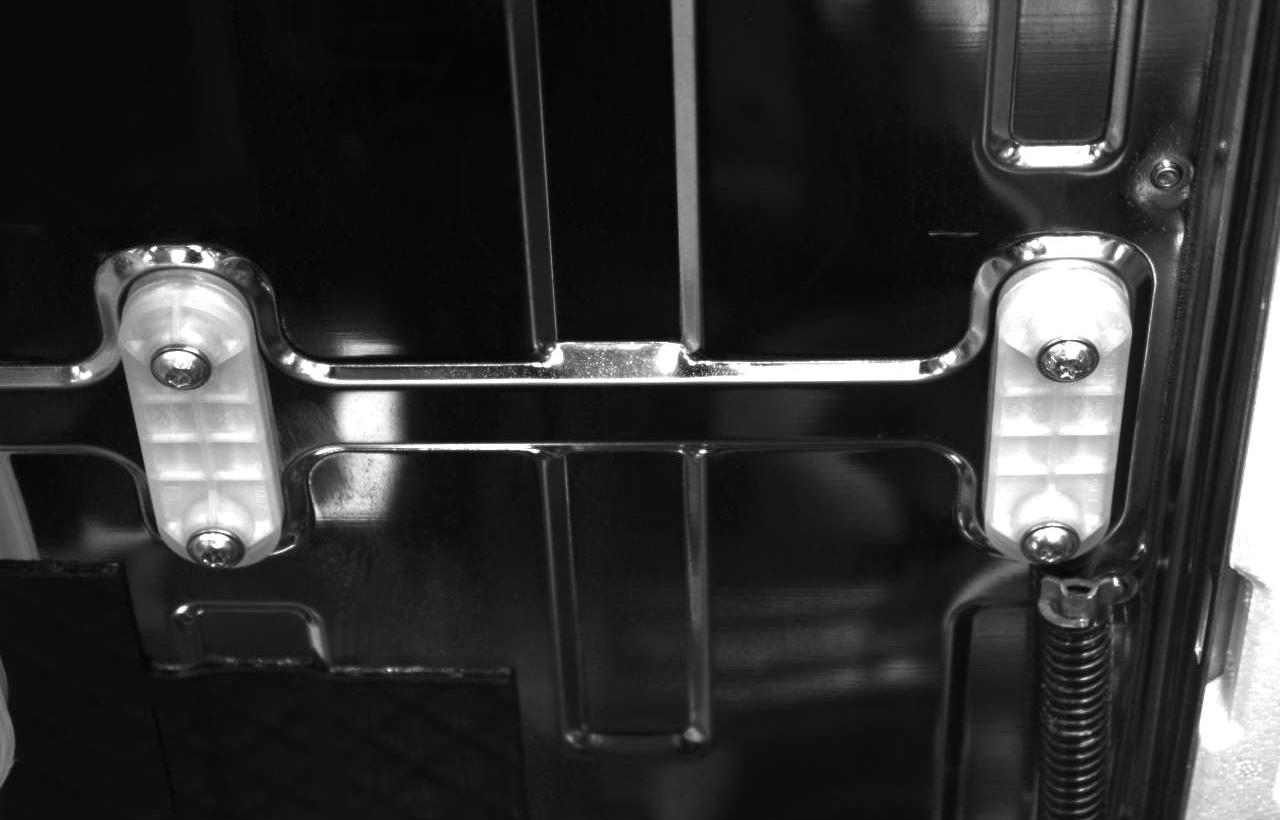vida-ok: (146, 341, 217, 408), (1034, 329, 1101, 397), (181, 518, 247, 577), (1016, 512, 1081, 571)
